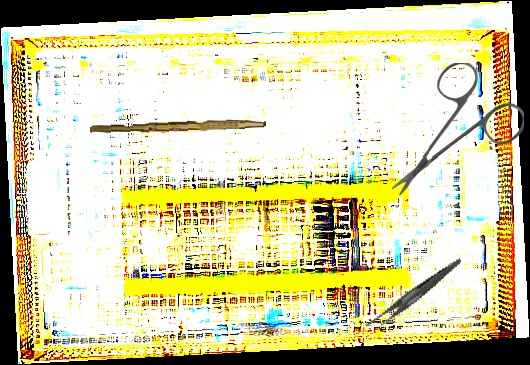Dressing Forceps: (355, 258, 474, 335)
Iris Scissors: (389, 61, 526, 196)
Scalpel Handle: (89, 115, 267, 137)
